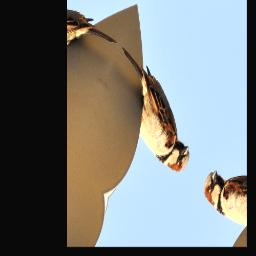Swallow: (95, 45, 207, 180)
